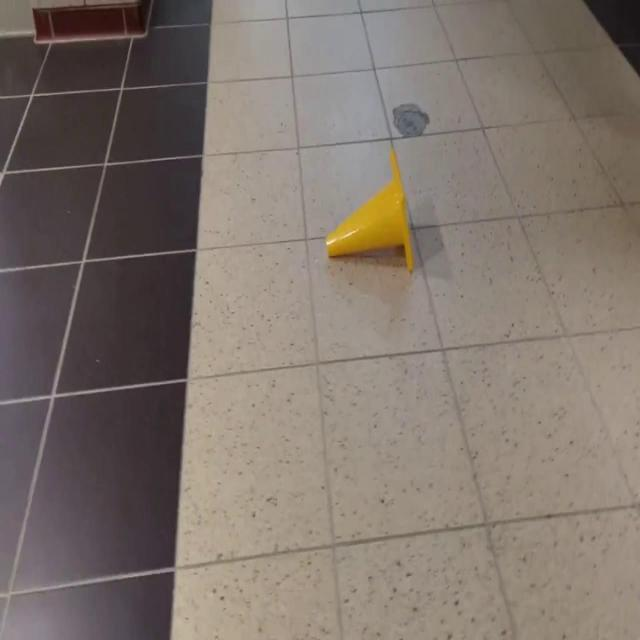frc_cone: (325, 148, 415, 272)
